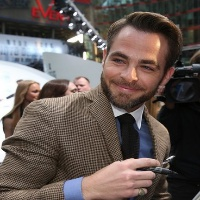ring: (132, 179, 154, 188)
